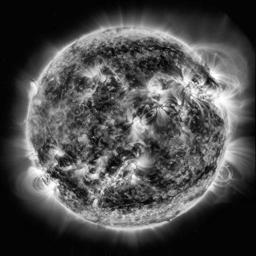solar flares: (186, 84, 222, 105), (149, 79, 168, 118), (130, 102, 145, 141), (115, 156, 142, 174), (85, 66, 110, 84), (72, 165, 86, 174)
sunspots: (101, 194, 147, 213), (91, 92, 114, 116), (151, 45, 183, 58), (186, 112, 205, 133), (141, 60, 177, 71), (61, 177, 80, 197), (151, 146, 174, 161), (96, 46, 139, 54), (151, 172, 167, 190), (106, 151, 122, 166), (200, 69, 212, 86), (201, 163, 215, 176), (59, 151, 77, 161), (72, 74, 85, 87), (126, 75, 139, 86), (90, 133, 101, 145)
